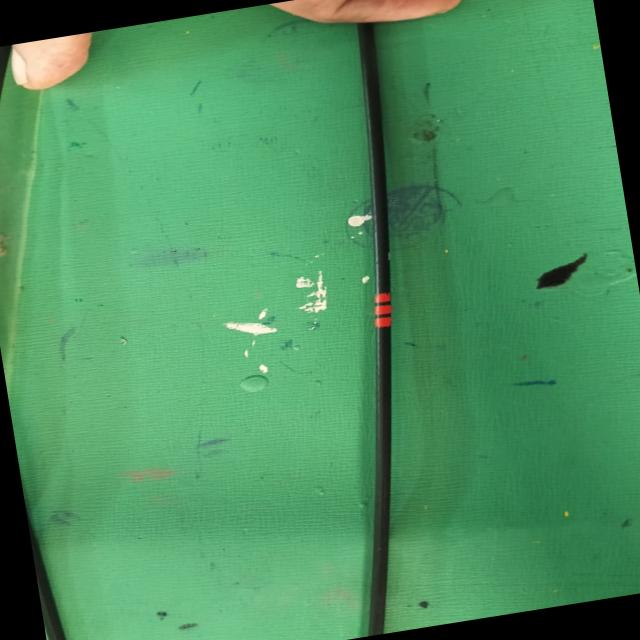red: (369, 292, 396, 330)
